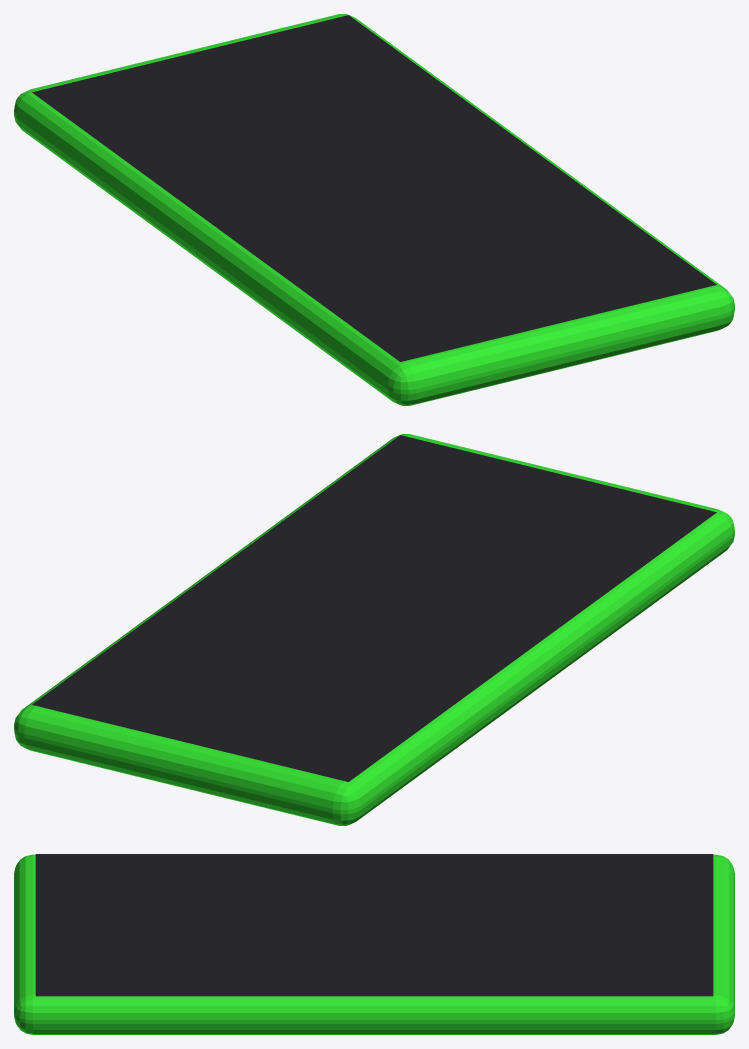
The model's file is Phone_625.glb.
The picture shows the model from 3 angles, top to bottom: view 1: azimuth 30°, elevation 25°; view 2: azimuth 150°, elevation 25°; view 3: azimuth 270°, elevation 25°; orthographic projection. The views are drawn at different scales.
Visible parts, largest first — view 1: Phone_Screen, Phone_Body; view 2: Phone_Screen, Phone_Body; view 3: Phone_Screen, Phone_Body.
Part boxes in pixels (bbox=[...]): Phone_Screen: bbox=[32, 15, 716, 361]; Phone_Body: bbox=[14, 14, 734, 405]; Phone_Screen: bbox=[32, 435, 716, 781]; Phone_Body: bbox=[14, 434, 734, 825]; Phone_Screen: bbox=[35, 854, 713, 996]; Phone_Body: bbox=[14, 854, 734, 1034].
Bounding box in the file's own units: 0.0741 × 0.0087 × 0.1461.
